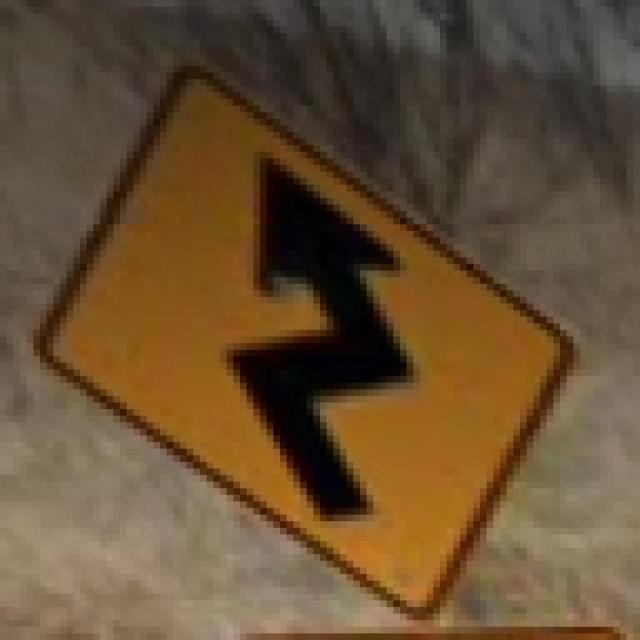Tikungan Ganda Pertama Ke Kanan: (20, 46, 573, 614)
